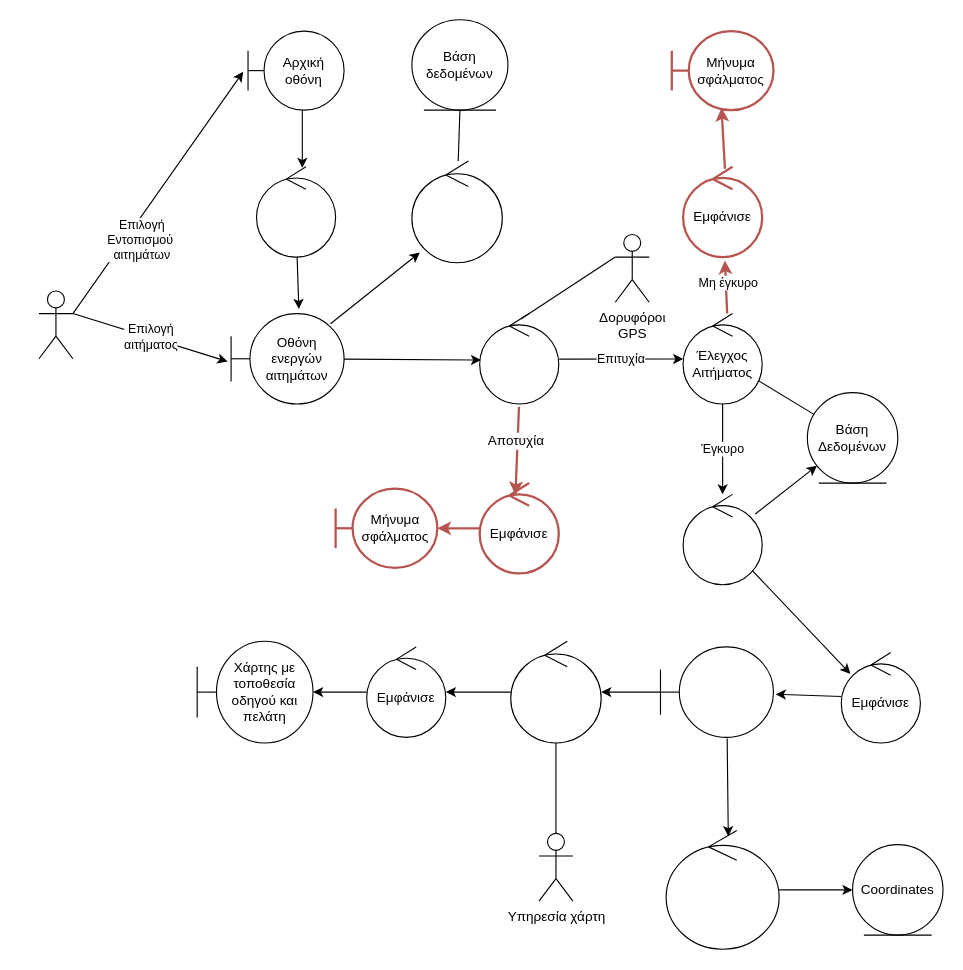
The diagram is 963 pixels wide and 970 high, and some of its shapes have lost their labels. The centre of each missing label's shape, as x and y in pixels:
"Ανάκτηση αιτημάτων από τη βάση" belongs at (456,211).
"Εμφάνιση" belongs at (295,211).
"Ενημέρωση Αιτήματος" belongs at (722,539).
"Επικοινωνία με GPS" belongs at (519,358).
"Επικοινωνία με υπηρεσία χάρτη" belongs at (555,691).
"Οδηγός Ταξί" belongs at (55,324).
"Οθόνη Μετακίνησης Ταξί" belongs at (716,691).
"Υπολογισμός χρόνου άφιξης" belongs at (722,889).
